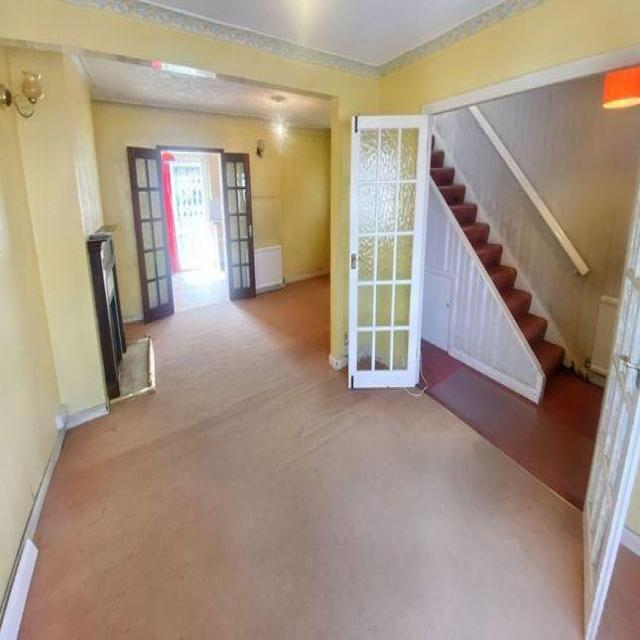Wall: (0, 0, 640, 367), (19, 277, 583, 639), (0, 48, 108, 605), (91, 104, 259, 321), (72, 1, 539, 76), (423, 342, 604, 509), (93, 101, 285, 230), (81, 57, 331, 129), (251, 129, 330, 283), (596, 546, 640, 638), (251, 150, 280, 241), (119, 204, 141, 318), (173, 273, 226, 312)
